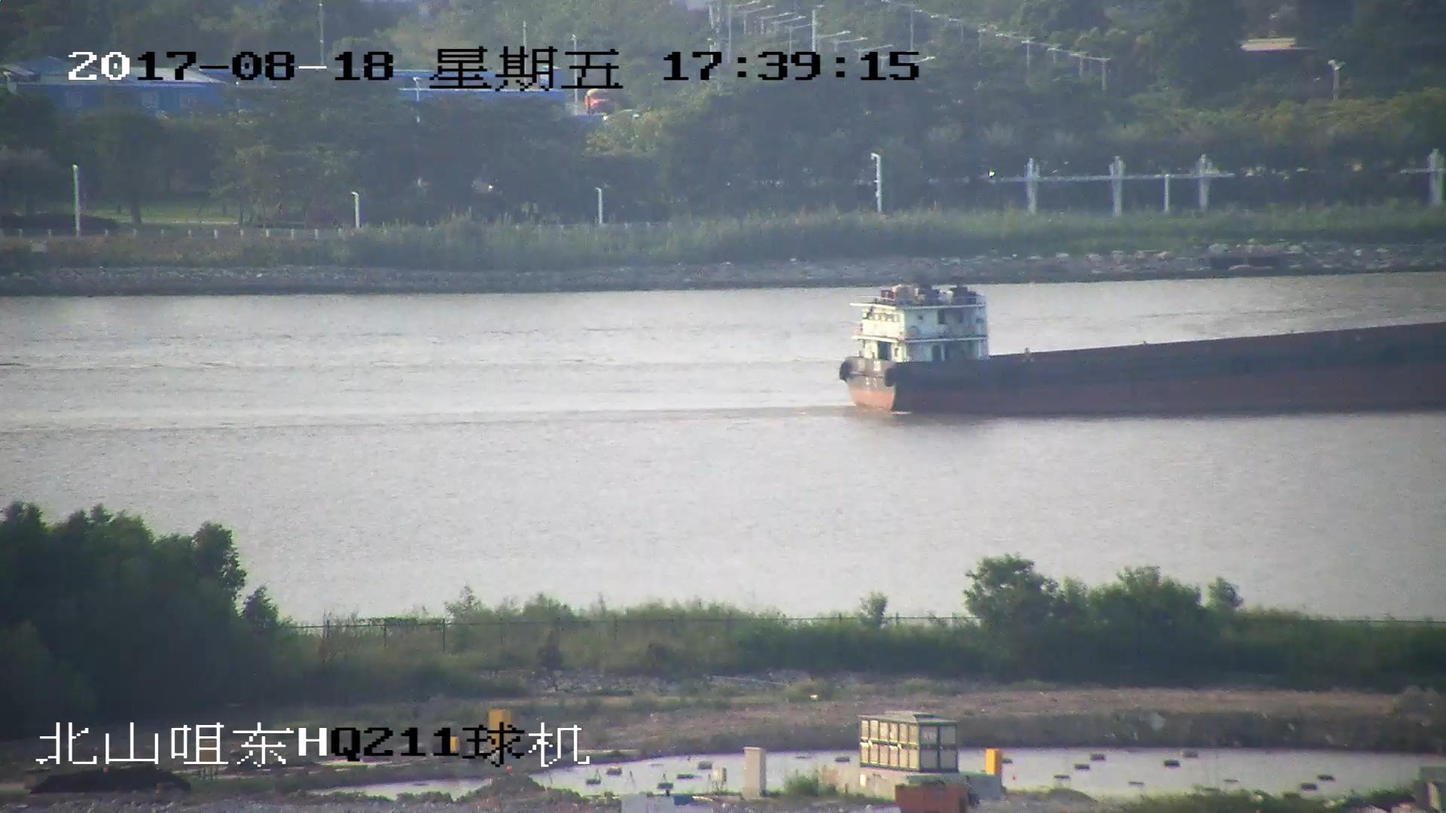general cargo ship: (837, 285, 1445, 414)
